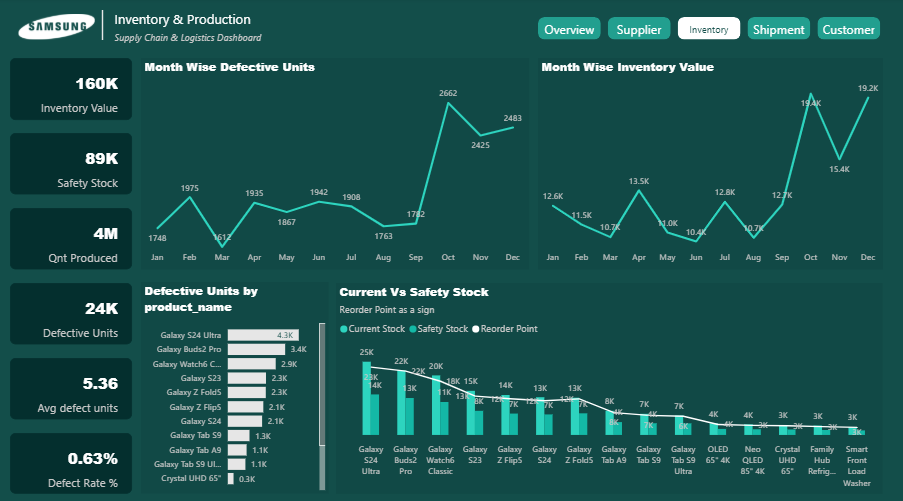

Layout of this report page (visuals, bound fields, positions):
{"tool":"powerbi","page":{"name":"Inventory","canvas":[1280,720],"ordinal":3},"visuals":[{"type":"textbox","title":"Inventory & Production","box":[157.3,17,248,53.9],"z":0},{"type":"shape","box":[131.8,17,26.9,42.5],"z":1000},{"type":"cardVisual","fields":{"Data":["Measures Table.Safety_Stock"]},"box":[14.2,191.9,172.8,87],"z":2000},{"type":"cardVisual","fields":{"Data":["fact_inventory.Total Qnt Produced"]},"box":[14.2,298,172.8,87],"z":3000},{"type":"cardVisual","fields":{"Data":["fact_inventory.Defective Units"]},"box":[14.2,404.1,172.8,87],"z":4000},{"type":"cardVisual","fields":{"Data":["Avg(fact_production.defective_units)"]},"box":[14.2,510.2,172.8,87],"z":5000},{"type":"cardVisual","fields":{"Data":["Measures Table.Defect Rate %"]},"box":[14.2,616.3,172.8,86.4],"z":6000},{"type":"cardVisual","fields":{"Data":["Measures Table.Inventory_Value"]},"box":[14.2,85,172.8,87.8],"z":7000},{"type":"image","box":[21.3,5.7,117.6,70.9],"z":8000},{"type":"lineClusteredColumnComboChart","title":"Current Vs Safety Stock","fields":{"Category":["dim_product.product_name"],"Y":["Measures Table.Inventory_Value","Measures Table.Safety_Stock"],"Y2":["Sum(fact_inventory.reorder_point)"]},"box":[476.4,403.9,775.1,298.7],"z":9000},{"type":"clusteredBarChart","fields":{"Category":["dim_product.product_name"],"Y":["Measures Table.Defective Units"]},"box":[200.5,402.5,266,300.1],"z":10000},{"type":"lineChart","title":"Month Wise Defective Units","fields":{"Y":["Measures Table.Defective Units"],"Category":["dim_date.Short_Month"]},"box":[200.5,85.3,550.4,300.1],"z":11000},{"type":"lineChart","title":"Month Wise Inventory Value","fields":{"Category":["dim_date.Short_Month"],"Y":["Measures Table.Inventory_Value"]},"box":[762.3,85.3,489.2,300.1],"z":12000},{"type":"pageNavigator","box":[762.9,27.1,488.6,32.9],"z":13000}]}

Visuals, with their boxes in screenshot pixels (x1, y1, x2, y2), scaled from the page's 1280x720 canvas onto the 903x501 screenshot:
"Inventory & Production" textbox: (left=111, top=12, right=286, bottom=49)
shape: (left=93, top=12, right=112, bottom=41)
cardVisual - Measures Table.Safety_Stock: (left=10, top=134, right=132, bottom=194)
cardVisual - fact_inventory.Total Qnt Produced: (left=10, top=207, right=132, bottom=268)
cardVisual - fact_inventory.Defective Units: (left=10, top=281, right=132, bottom=342)
cardVisual - Avg(fact_production.defective_units): (left=10, top=355, right=132, bottom=416)
cardVisual - Measures Table.Defect Rate %: (left=10, top=429, right=132, bottom=489)
cardVisual - Measures Table.Inventory_Value: (left=10, top=59, right=132, bottom=120)
image: (left=15, top=4, right=98, bottom=53)
"Current Vs Safety Stock" lineClusteredColumnComboChart: (left=336, top=281, right=883, bottom=489)
clusteredBarChart - dim_product.product_name x Measures Table.Defective Units: (left=141, top=280, right=329, bottom=489)
"Month Wise Defective Units" lineChart: (left=141, top=59, right=530, bottom=268)
"Month Wise Inventory Value" lineChart: (left=538, top=59, right=883, bottom=268)
pageNavigator: (left=538, top=19, right=883, bottom=42)
